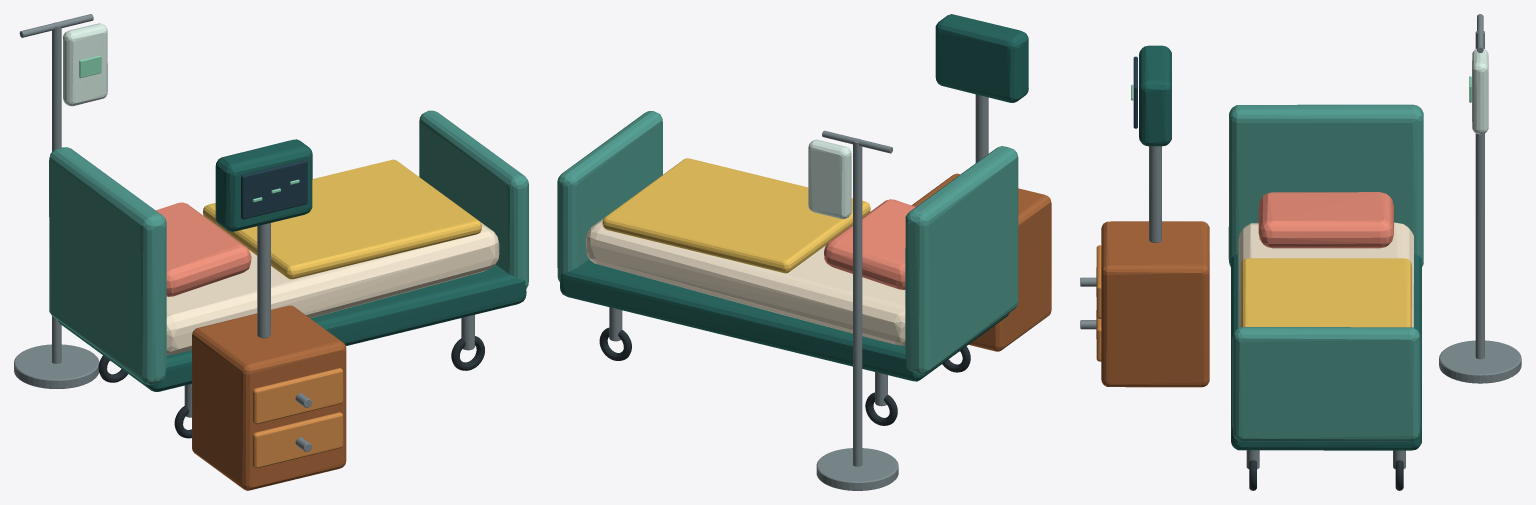
Rendered from bed.glb.
The picture shows the model from 3 angles, left to right: view 1: azimuth 30°, elevation 25°; view 2: azimuth 150°, elevation 25°; view 3: azimuth 270°, elevation 25°; orthographic projection. The views are drawn at different scales.
Visible parts, largest first — view 1: Headboard, Bedside_Carcass, Blanket, Mattress, Footboard, Bed_Frame, Pillow, Monitor_Body, Bedside_Drawer_1, Bedside_Drawer_2, IV_Bag, IV_Base (+5 smaller); view 2: Headboard, Blanket, Mattress, Bed_Frame, Footboard, Monitor_Body, Bedside_Carcass, Pillow, IV_Pole, IV_Bag, IV_Base, Monitor_Pole (+2 smaller); view 3: Footboard, Headboard, Bedside_Carcass, Blanket, Pillow, Bed_Frame, Mattress, Monitor_Body, IV_Base, IV_Pole, IV_Bag, Monitor_Pole.
Boxes of the visible parts, x1,y1,x2,y2 form: Headboard: (49,147,166,385); Bedside_Carcass: (192,305,346,490); Blanket: (203,159,481,279); Mattress: (166,222,499,354); Footboard: (419,110,528,288); Bed_Frame: (58,264,526,391); Pillow: (156,202,251,296); Monitor_Body: (215,139,312,231); Bedside_Drawer_1: (252,368,343,424); Bedside_Drawer_2: (252,412,343,468); IV_Bag: (63,23,107,106); IV_Base: (14,344,99,388); Headboard: (905,146,1018,374); Blanket: (602,158,870,273); Mattress: (586,218,905,345); Bed_Frame: (560,259,1009,381); Footboard: (557,111,662,281); Monitor_Body: (935,14,1028,102); Bedside_Carcass: (911,173,1051,351); Pillow: (824,199,915,289); IV_Pole: (853,138,862,466); IV_Bag: (808,139,851,219); IV_Base: (816,448,898,490); Monitor_Pole: (975,94,988,162); Footboard: (1232,327,1420,441); Headboard: (1228,104,1423,266); Bedside_Carcass: (1101,221,1209,387); Blanket: (1241,258,1411,327); Pillow: (1258,192,1393,248); Bed_Frame: (1231,254,1421,450); Mattress: (1238,222,1413,327); Monitor_Body: (1139,45,1171,146); IV_Base: (1439,340,1521,383); IV_Pole: (1475,30,1484,359); IV_Bag: (1472,48,1488,134); Monitor_Pole: (1149,146,1161,242).
Bounding box in the file's own units: 2.3 × 1.98 × 2.35.
